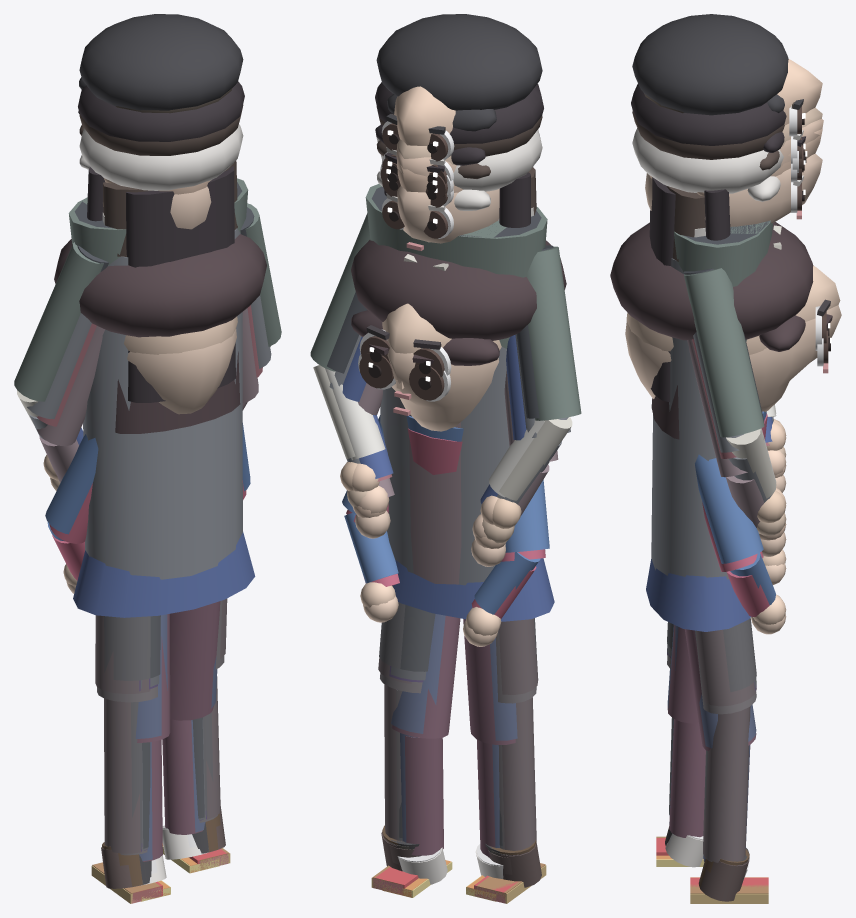
File: characters.glb
The picture shows the model from 3 angles, left to right: view 1: azimuth 30°, elevation 25°; view 2: azimuth 150°, elevation 25°; view 3: azimuth 270°, elevation 25°; orthographic projection.
Visible parts, largest first — view 1: coat.001, haircap.007, haircap, sheet, skirt, haircap.005, upper.005, haircap.001, thigh.014, head.007, shin.007, shin.014 (+31 smaller); view 2: haircap, haircap.007, coat.001, upper.005, coat.002, jacket.002, skirt, shin.014, shin.007, head.007, head.005, haircap.001 (+51 smaller); view 3: haircap, haircap.007, coat.001, upper.004, shin.006, skirt, haircap.001, head.007, haircap.005, shin.015, upper.012, jacket.002 (+31 smaller).
Boxes of the visible parts, x1,y1,x2,y2 form: coat.001: (83,228,242,579); haircap.007: (54,234,266,337); haircap: (79,14,243,110); sheet: (126,166,235,402); skirt: (73,532,255,617); haircap.005: (79,124,243,190); upper.005: (14,242,103,401); haircap.001: (78,81,244,141); thigh.014: (170,601,220,720); head.007: (127,329,236,414); shin.007: (104,698,140,853); shin.014: (162,719,202,834); haircap: (376,14,542,110); haircap.007: (351,240,566,340); coat.001: (380,347,509,585); upper.005: (526,246,581,420); coat.002: (409,414,461,584); jacket.002: (365,184,547,348); skirt: (392,558,554,621); shin.014: (405,736,443,855); shin.007: (502,697,536,850); head.007: (387,345,498,431); head.005: (397,186,499,243); haircap.001: (375,82,543,143); haircap: (632,14,788,115); haircap.007: (610,222,813,340); coat.001: (651,258,728,579); upper.004: (684,268,764,437); shin.006: (703,706,750,862); skirt: (646,559,750,631); haircap.001: (631,84,786,145); head.007: (625,305,841,411); haircap.005: (632,128,783,193); shin.015: (669,719,705,837); upper.012: (695,454,763,563); jacket.002: (674,220,772,341).
Bounding box in the file's own units: 0.5823 × 1.8 × 0.4441.
